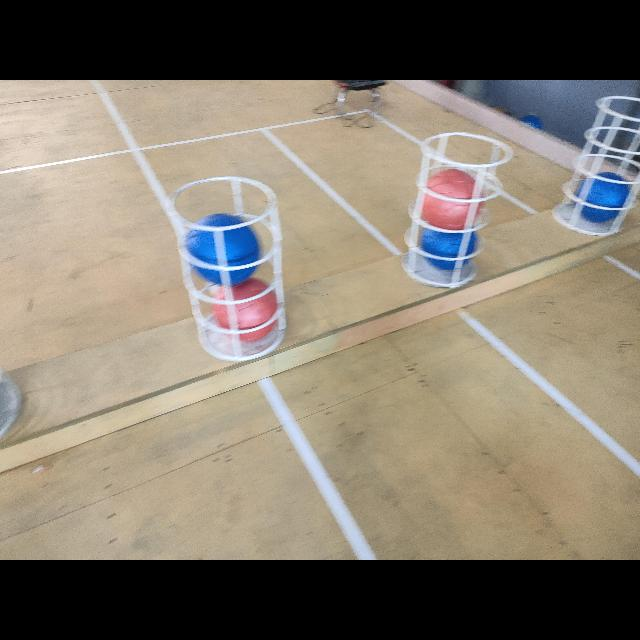B: (184, 214, 260, 284), (578, 170, 630, 220), (422, 230, 478, 272)
R: (211, 280, 279, 342), (420, 170, 486, 228)
